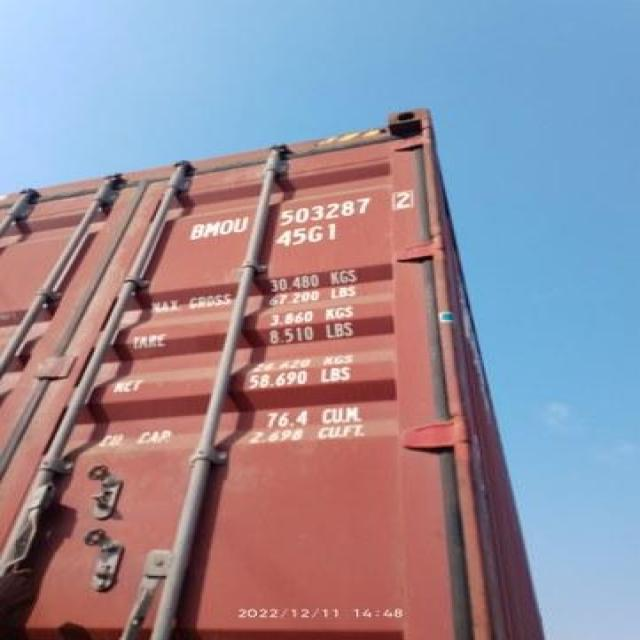ISO: (270, 220, 346, 254)
container_number: (182, 186, 420, 248)
